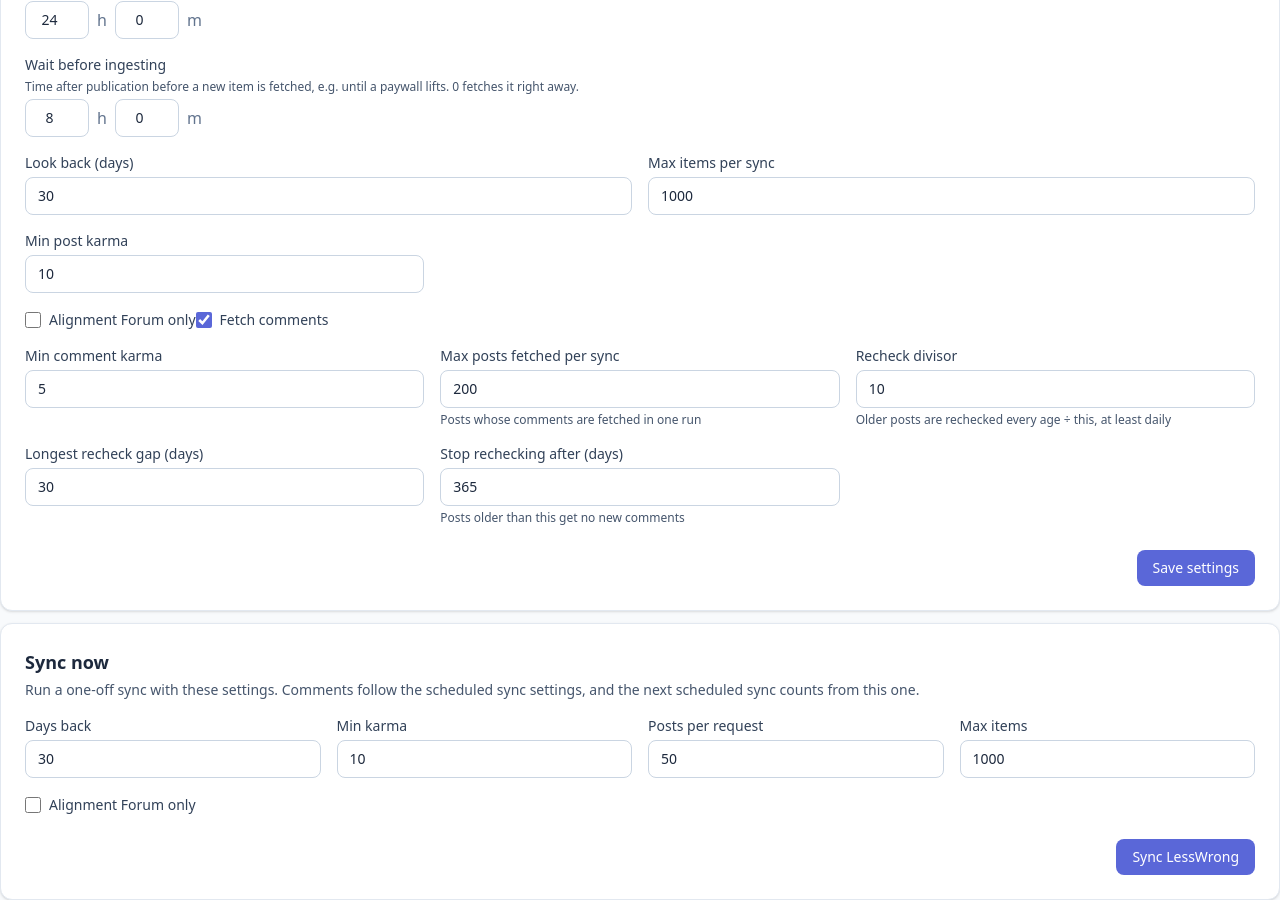
Test: ForumsPanel › posts a manual sync with the edited settings and shows the success banner
(page scrolled)
Check: the form named "Sync now" is shown, box [25, 716, 1255, 875]
Replace the text in the number field labelled "Min karma" with "25" at (484, 759), box [336, 740, 632, 778]
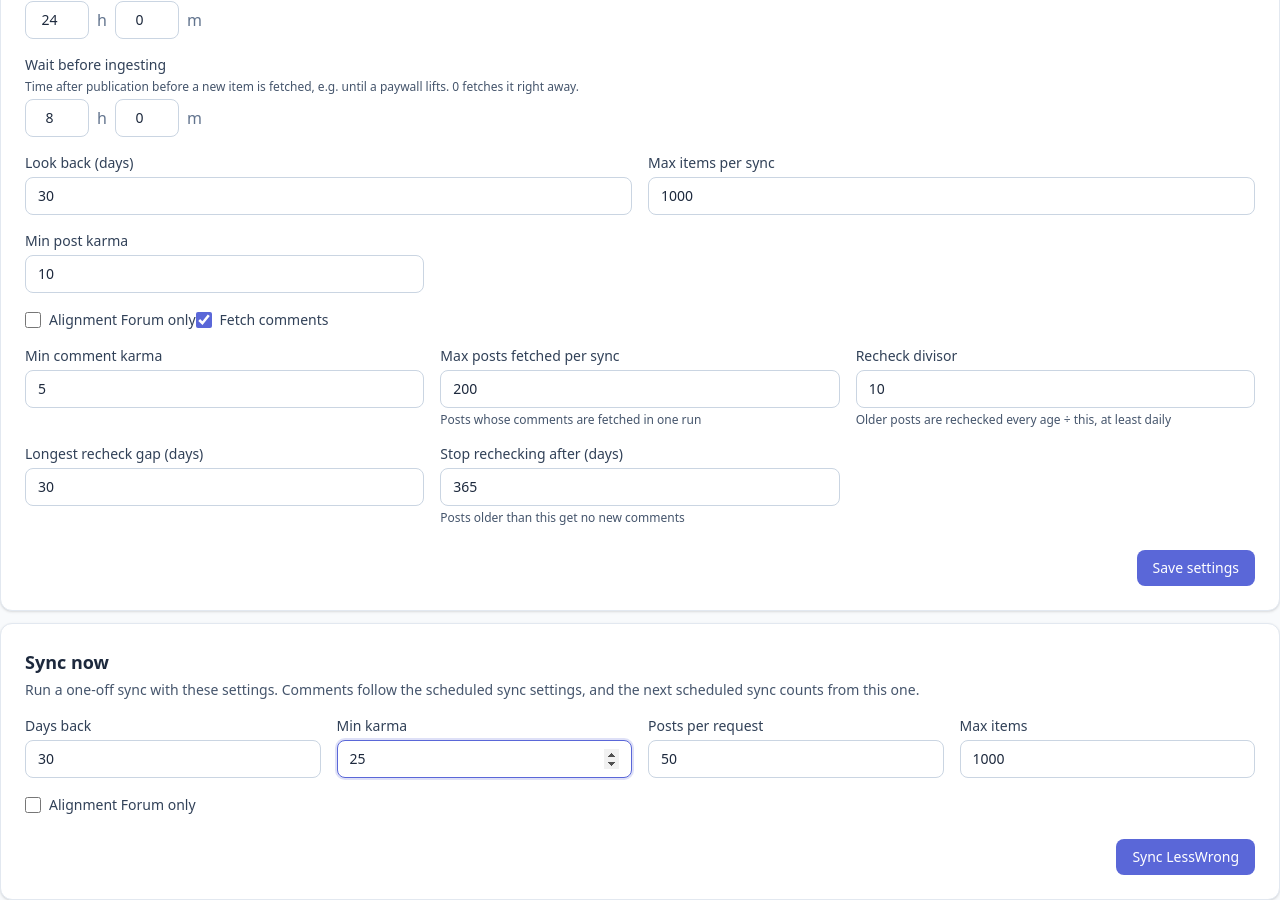
Click the checkbox labelled "Alignment Forum only" below "Days back" at (33, 805), box [25, 797, 41, 813]
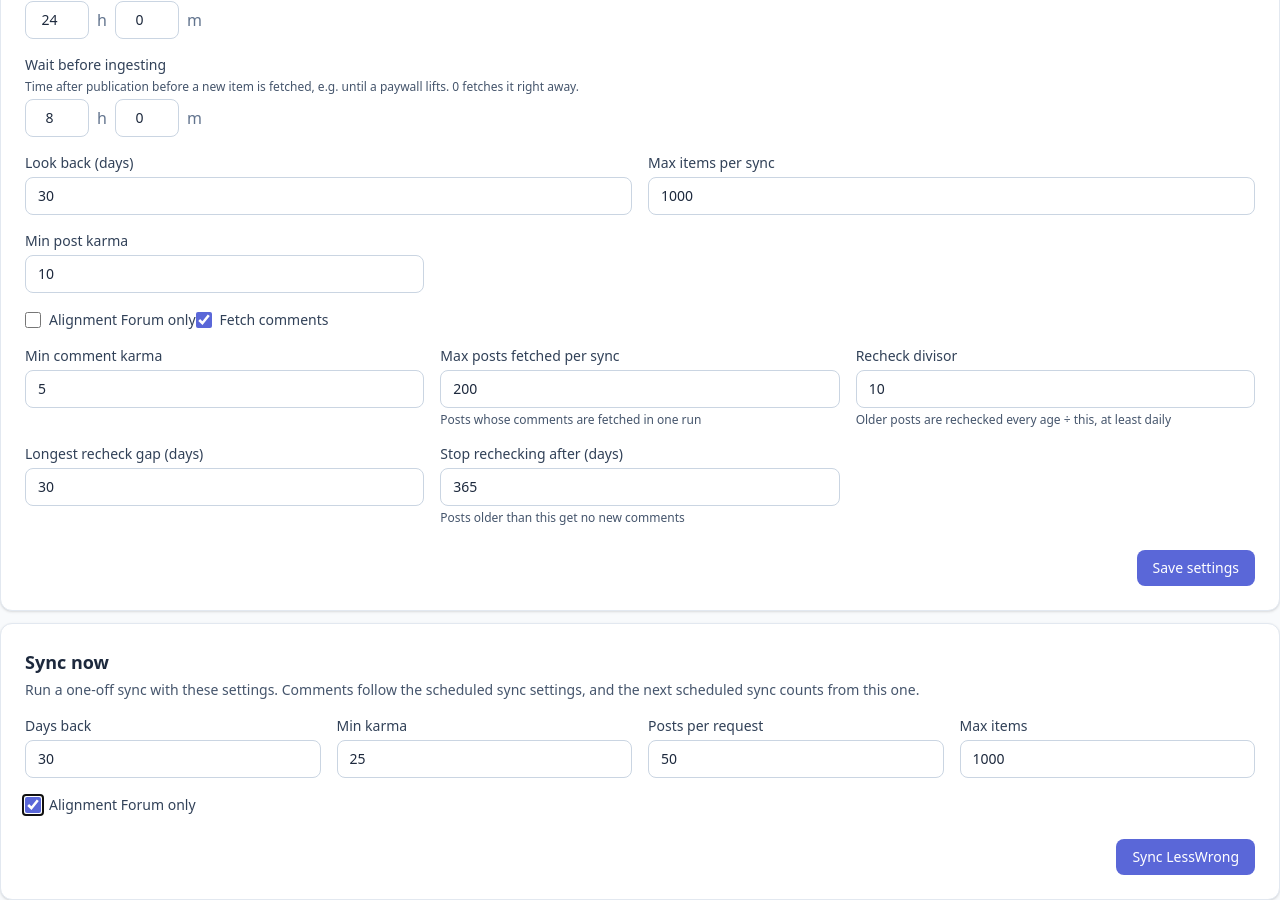
Click the button "Sync LessWrong" at (1186, 857), box [1116, 839, 1255, 875]
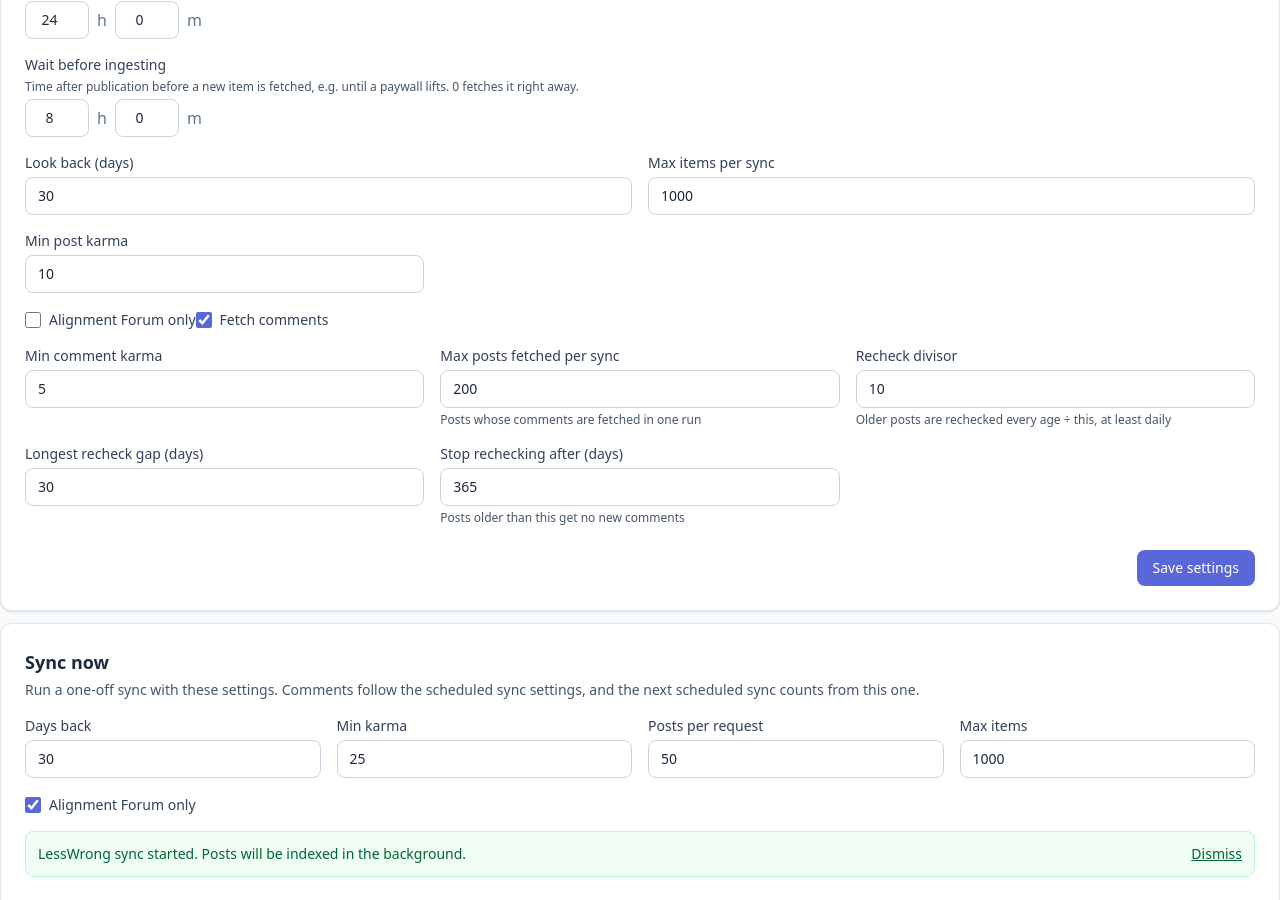
Check: the text "LessWrong sync started" is shown, box [38, 844, 466, 863]
